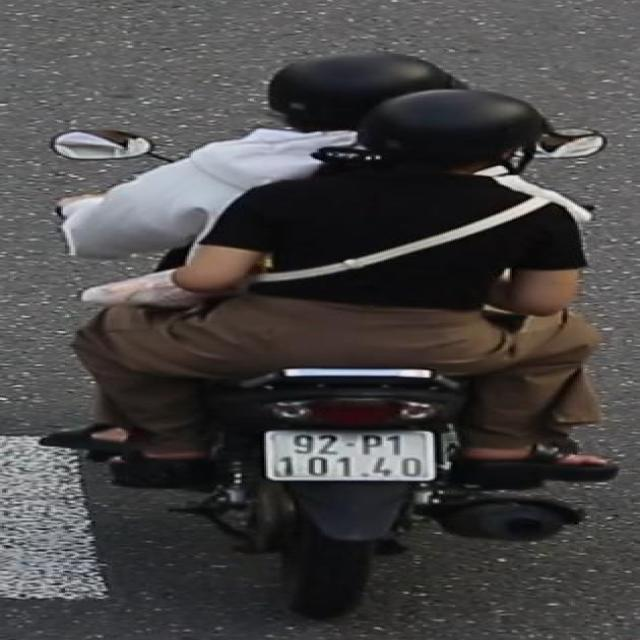LP: (250, 426, 451, 485)
helmet: (360, 89, 566, 189), (256, 46, 465, 127)
